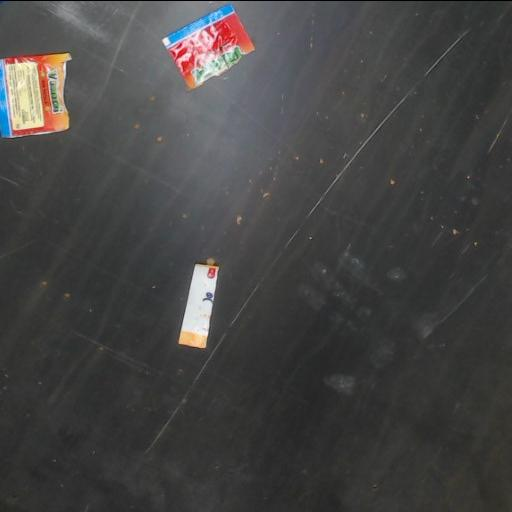conveyor belt: (0, 1, 511, 512)
packet: (162, 5, 254, 87), (0, 53, 71, 136), (179, 262, 218, 346)
